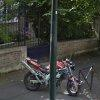Tree: (59, 0, 100, 45)
